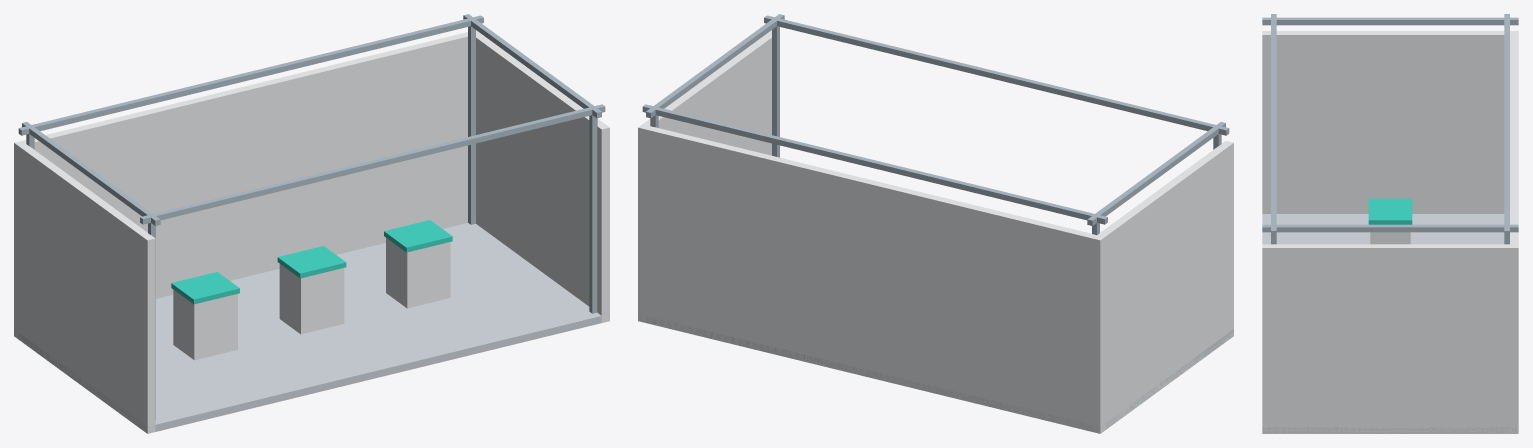
3 renders of one model, left to right at view 1: azimuth 30°, elevation 25°; view 2: azimuth 150°, elevation 25°; view 3: azimuth 270°, elevation 25°, orthographic. The views are drawn at different scales.
Parts seen in each view (by area): view 1: Exhibition Booth Concept; view 2: Exhibition Booth Concept; view 3: Exhibition Booth Concept.
Boxes of the visible parts, left/top/right/bottom form: Exhibition Booth Concept: left=14, top=14, right=609, bottom=433; Exhibition Booth Concept: left=638, top=14, right=1233, bottom=433; Exhibition Booth Concept: left=1262, top=14, right=1518, bottom=433.
Bounding box in the file's own units: 8 × 3.49 × 4.
